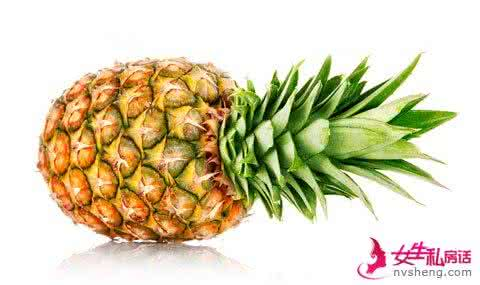pineapple: (33, 66, 447, 236)
